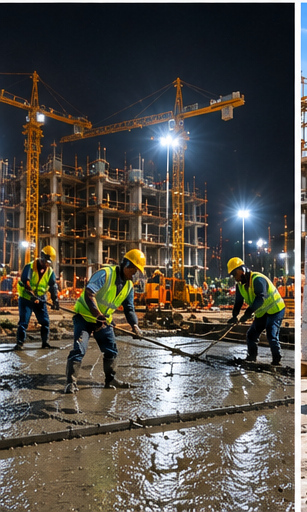crane: (61, 69, 238, 264), (3, 63, 94, 317)
hardhat: (117, 247, 147, 276), (225, 255, 248, 284), (39, 244, 56, 257)
person: (61, 244, 155, 398), (209, 251, 288, 375), (13, 246, 56, 354)
safety_vest: (81, 262, 124, 331), (237, 282, 287, 319), (24, 260, 56, 308)
